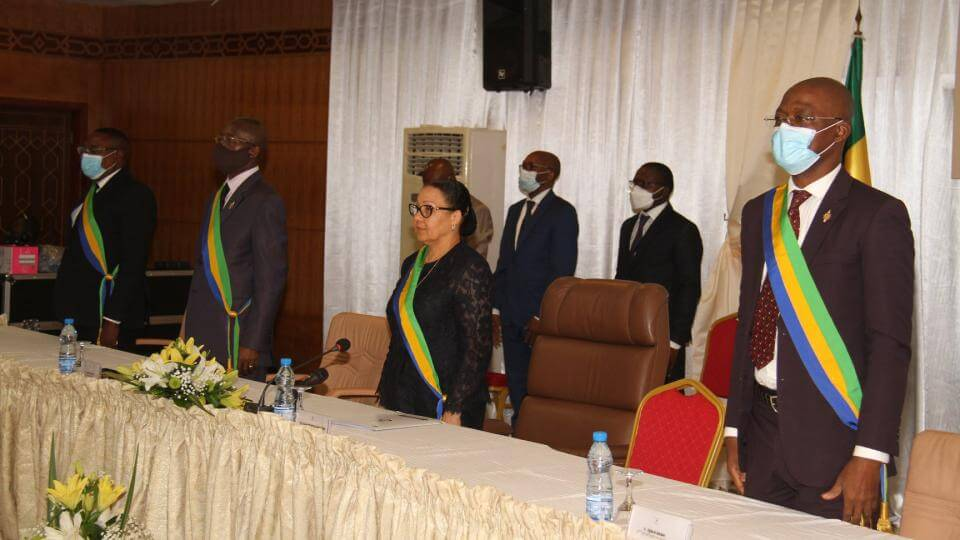with_mask: (765, 107, 841, 183), (211, 132, 261, 174), (74, 140, 121, 183), (625, 175, 669, 218), (516, 161, 555, 199)
without_mask: (404, 199, 465, 247)
